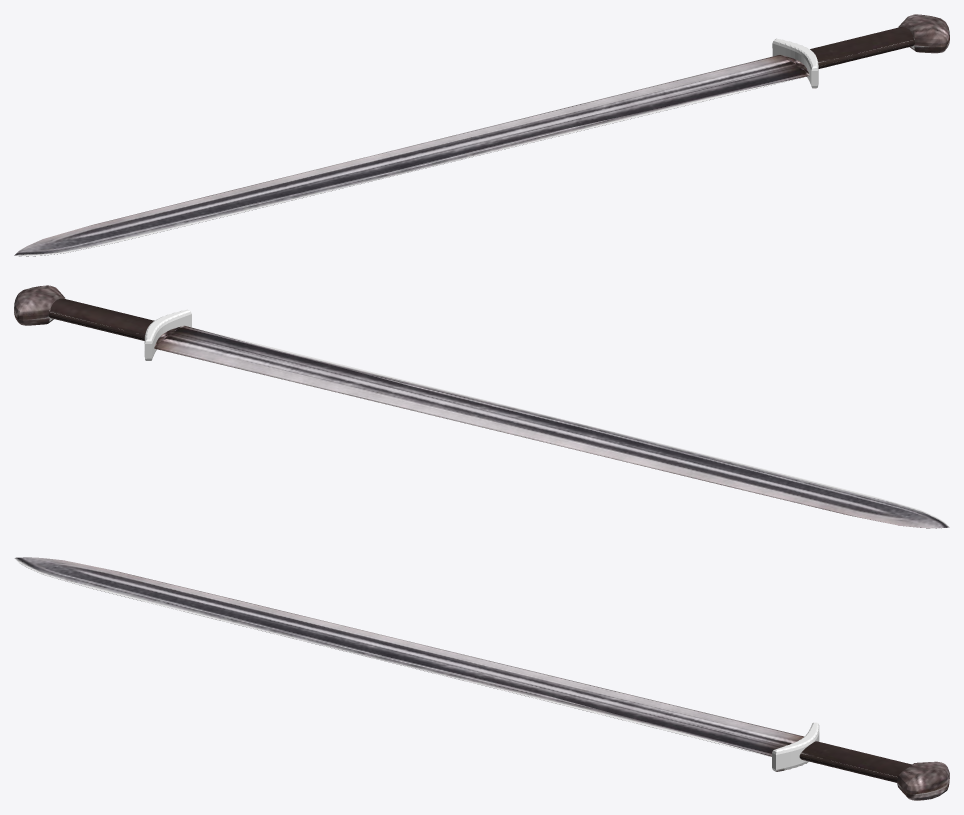
File: longsword.obj
3 views of the same model, one above another, from view 1: azimuth 30°, elevation 25°; view 2: azimuth 150°, elevation 25°; view 3: azimuth 330°, elevation 25° (orthographic).
Parts seen in each view (by area): view 1: Plane; view 2: Plane; view 3: Plane.
Boxes of the visible parts, left/top/right/bottom form: Plane: left=14, top=14, right=949, bottom=256; Plane: left=14, top=285, right=949, bottom=528; Plane: left=14, top=557, right=949, bottom=800.
Bounding box in the file's own units: 9.43 × 0.2395 × 0.7523.
